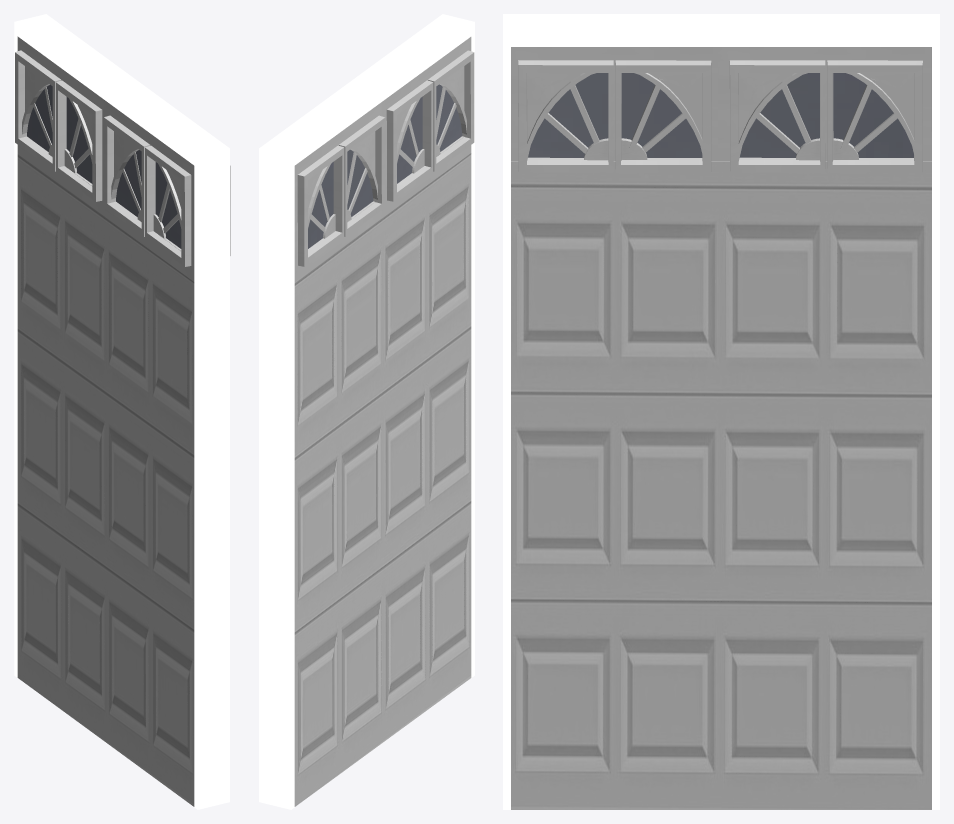
The model's file is overhead_door_door_sherwood.d52f3c86.gltf.
3 views of the same model, side by side, from view 1: azimuth 30°, elevation 25°; view 2: azimuth 150°, elevation 25°; view 3: azimuth 270°, elevation 25° (orthographic). The views are drawn at different scales.
Parts seen in each view (by area): view 1: door, trim, door_window, Glass; view 2: door, trim, door_window, Glass; view 3: door, door_window, trim, Glass.
Boxes of the visible parts, x1=… form: door: x1=17, y1=153, x2=194, y2=806; trim: x1=14, y1=14, x2=229, y2=809; door_window: x1=15, y1=36, x2=230, y2=281; Glass: x1=27, y1=84, x2=181, y2=248; door: x1=294, y1=153, x2=471, y2=806; trim: x1=259, y1=14, x2=474, y2=809; door_window: x1=294, y1=37, x2=474, y2=281; Glass: x1=308, y1=84, x2=462, y2=248; door: x1=511, y1=161, x2=931, y2=809; door_window: x1=511, y1=47, x2=931, y2=172; trim: x1=503, y1=14, x2=939, y2=809; Glass: x1=528, y1=73, x2=913, y2=157.
Bounding box in the file's own units: 0.438 × 6 × 3.05.
4 materials, 3 textured.
